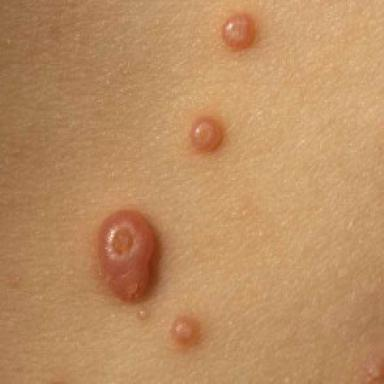Molluscum-Contagiosum: (99, 210, 161, 301), (222, 13, 256, 49), (193, 116, 225, 152), (171, 314, 204, 348), (137, 305, 150, 319)
